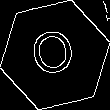O_S: (29, 25, 81, 85)
